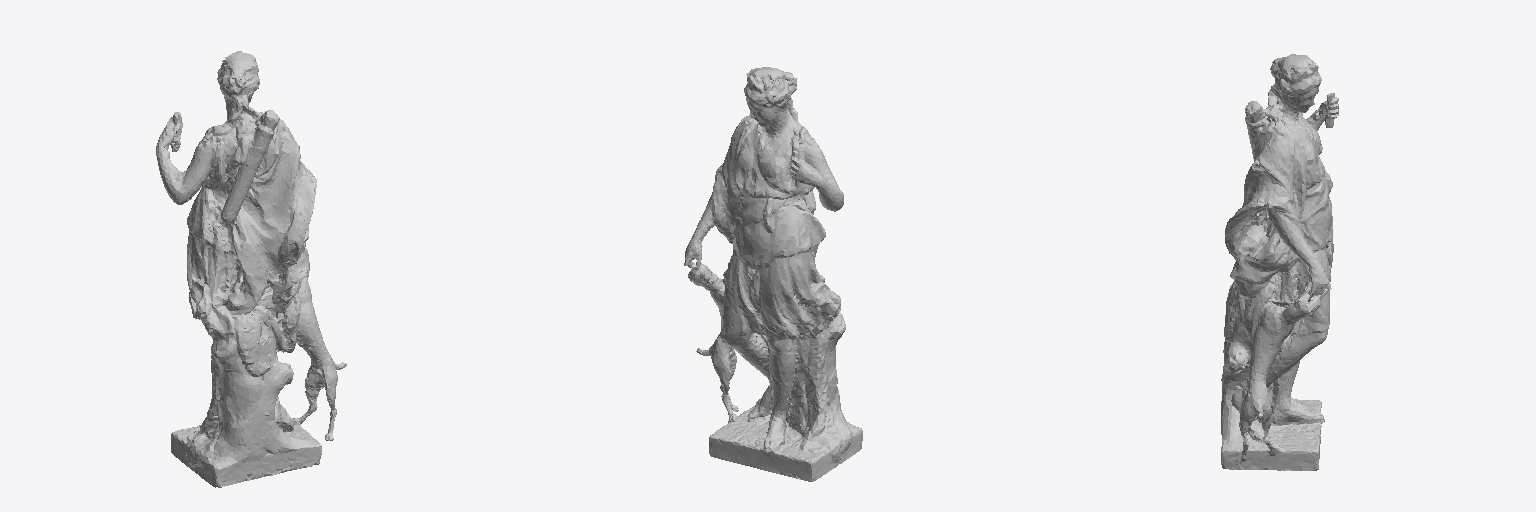
The model's file is statue_object.obj.
The picture shows the model from 3 angles: view 1: azimuth 30°, elevation 25°; view 2: azimuth 150°, elevation 25°; view 3: azimuth 270°, elevation 25°; orthographic projection.
Visible parts, largest first — view 1: DIANE1; view 2: DIANE1; view 3: DIANE1.
Boxes of the visible parts, <box> form: DIANE1: <box>156,51,346,487</box>; DIANE1: <box>684,67,862,481</box>; DIANE1: <box>1221,54,1338,470</box>.
Size of the model in its own units: 6.3 by 14.49 by 3.99.